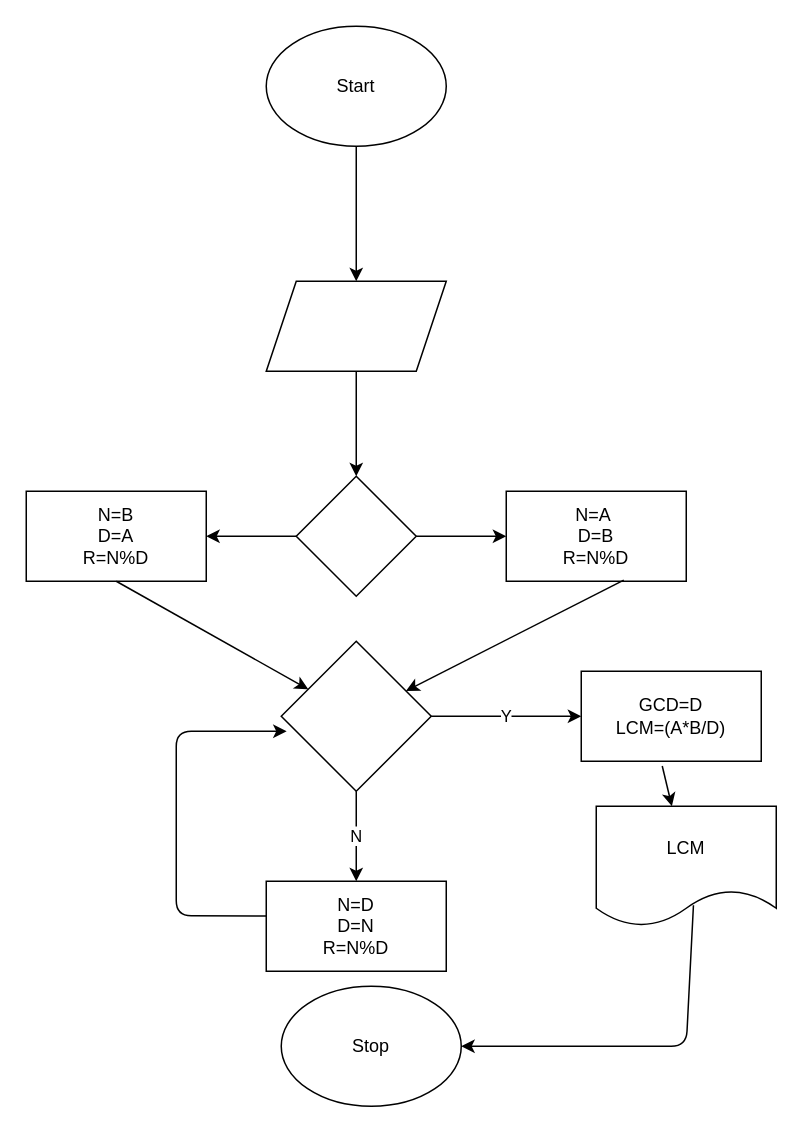
This 803x1133 diagram has some shape labels left out. Here are the shapes that lost their labels. From the top down, the centre of each, then its label:
point 355,325: Read 2 numbers A, B
point 355,535: If A>B
point 355,715: If R=0
